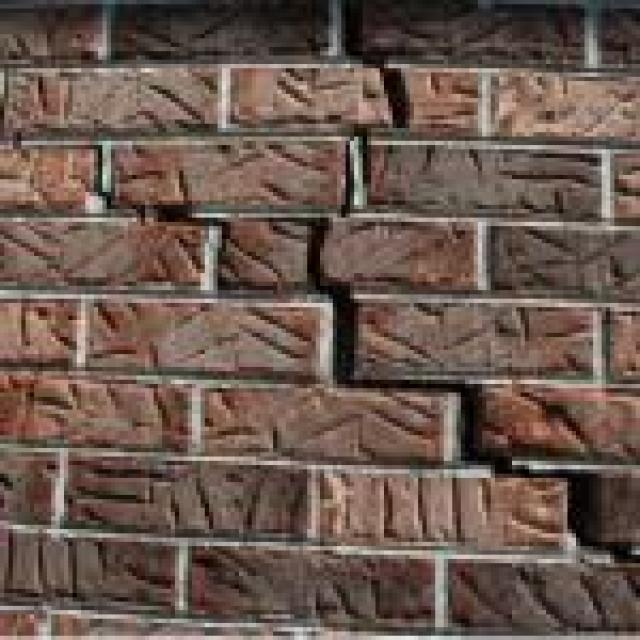Crack: (13, 128, 636, 593), (333, 0, 414, 213)
